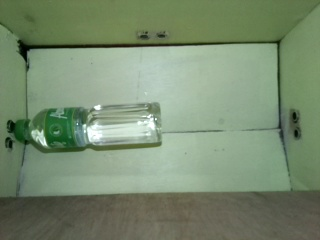bottle: (15, 101, 163, 153)
